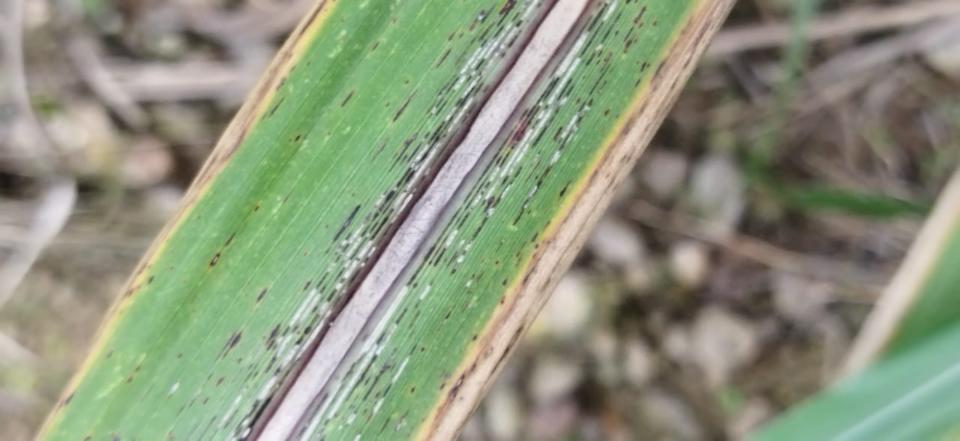Rust: (224, 80, 486, 440), (237, 126, 461, 440), (339, 0, 540, 265), (480, 0, 620, 208), (333, 86, 475, 283), (432, 75, 561, 268), (272, 188, 390, 352), (511, 97, 595, 228), (448, 165, 524, 277), (500, 76, 575, 187), (316, 328, 388, 438), (352, 341, 421, 440), (462, 108, 529, 205), (345, 305, 410, 403), (262, 282, 329, 375), (465, 0, 531, 83), (426, 39, 488, 120), (404, 206, 463, 289), (556, 61, 613, 144), (346, 345, 400, 424), (451, 23, 506, 92), (506, 75, 557, 148), (546, 13, 594, 81), (530, 83, 576, 150), (583, 10, 624, 68), (427, 215, 462, 267), (296, 391, 331, 439), (477, 0, 515, 44), (216, 383, 250, 427), (424, 72, 458, 115), (329, 202, 362, 246), (387, 130, 420, 174), (389, 86, 422, 125), (464, 172, 491, 211), (412, 275, 438, 309), (220, 328, 246, 362), (405, 130, 431, 164), (452, 36, 478, 67), (213, 331, 238, 363), (341, 352, 367, 382), (444, 237, 467, 270), (586, 2, 609, 33), (496, 0, 519, 29), (332, 230, 354, 257), (370, 137, 391, 164), (197, 413, 218, 440), (466, 8, 487, 33), (267, 95, 286, 121), (186, 384, 205, 410), (392, 407, 411, 432), (264, 321, 283, 346), (556, 178, 574, 204), (523, 160, 541, 186), (434, 46, 453, 70), (222, 406, 240, 430), (479, 3, 498, 25), (461, 101, 478, 125), (406, 308, 423, 331), (632, 4, 650, 25), (599, 50, 614, 73), (165, 379, 182, 399), (339, 90, 356, 109), (442, 302, 458, 320), (380, 413, 394, 433), (434, 99, 449, 117), (208, 251, 223, 268), (223, 231, 238, 248), (256, 286, 270, 304), (174, 400, 188, 418), (622, 25, 635, 43), (483, 195, 496, 213), (494, 238, 508, 253), (274, 77, 288, 92), (506, 34, 519, 50), (621, 38, 633, 55), (552, 125, 564, 142), (446, 28, 459, 43), (301, 278, 314, 293), (63, 391, 75, 407), (513, 250, 523, 268), (465, 272, 476, 288), (215, 374, 226, 388), (265, 339, 276, 353), (242, 370, 253, 384), (474, 270, 485, 284), (287, 133, 302, 143), (530, 230, 541, 243), (370, 41, 381, 53), (105, 349, 117, 360), (362, 375, 373, 387), (360, 332, 371, 344), (205, 370, 217, 381), (494, 154, 504, 167), (399, 153, 409, 166), (109, 431, 122, 440), (132, 364, 143, 374), (310, 303, 320, 314), (633, 78, 642, 90), (599, 79, 608, 91), (124, 375, 134, 385), (543, 219, 553, 229), (146, 275, 156, 285), (639, 60, 647, 72), (602, 107, 611, 117), (323, 245, 332, 255), (251, 370, 260, 380), (361, 406, 369, 417), (498, 51, 507, 60), (203, 395, 211, 405), (82, 432, 92, 440), (479, 255, 487, 265), (253, 204, 261, 213), (409, 385, 417, 394), (575, 96, 583, 105), (471, 333, 479, 342), (374, 390, 382, 399), (457, 31, 465, 40), (482, 84, 490, 93), (246, 362, 254, 371), (288, 64, 296, 73), (501, 278, 509, 286), (614, 112, 622, 120), (411, 281, 419, 289), (318, 295, 326, 303), (421, 344, 428, 353), (438, 382, 445, 391), (596, 49, 603, 58), (594, 58, 601, 67), (535, 2, 544, 9), (384, 101, 392, 108), (236, 357, 243, 365), (177, 352, 185, 359), (638, 21, 645, 29), (614, 29, 621, 37), (526, 208, 533, 216), (442, 256, 449, 264), (253, 362, 260, 370), (301, 251, 308, 259), (390, 18, 398, 25), (402, 79, 411, 85), (533, 243, 540, 250), (533, 174, 540, 181), (596, 1, 603, 8), (295, 329, 302, 336), (323, 223, 330, 230), (624, 0, 632, 6), (305, 60, 311, 68), (168, 266, 176, 272), (652, 20, 658, 27), (632, 38, 639, 44), (517, 29, 524, 35), (168, 248, 174, 255), (494, 259, 500, 265), (536, 150, 542, 156), (325, 131, 331, 137), (646, 62, 651, 68), (635, 60, 640, 66), (350, 191, 355, 197), (182, 279, 187, 285), (500, 220, 505, 225), (319, 437, 326, 440), (634, 0, 639, 4), (262, 335, 266, 340)
Yellow: (413, 0, 738, 440), (35, 0, 339, 440)
